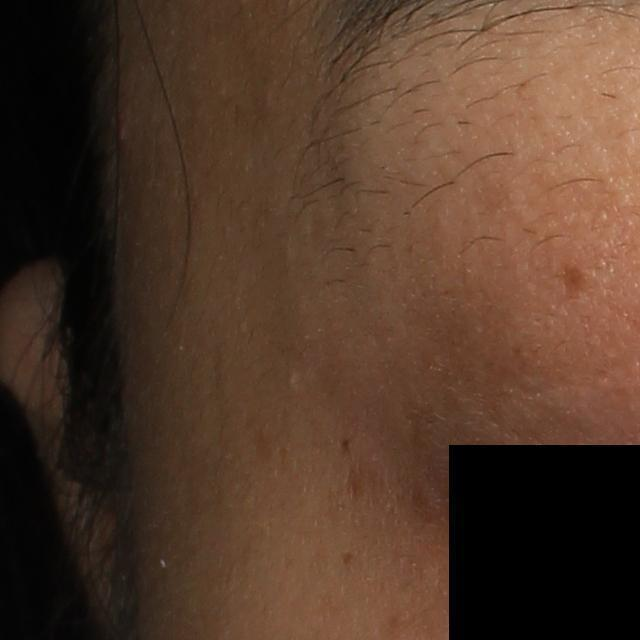melasma: (561, 264, 583, 302)
nevus: (333, 436, 352, 458)
